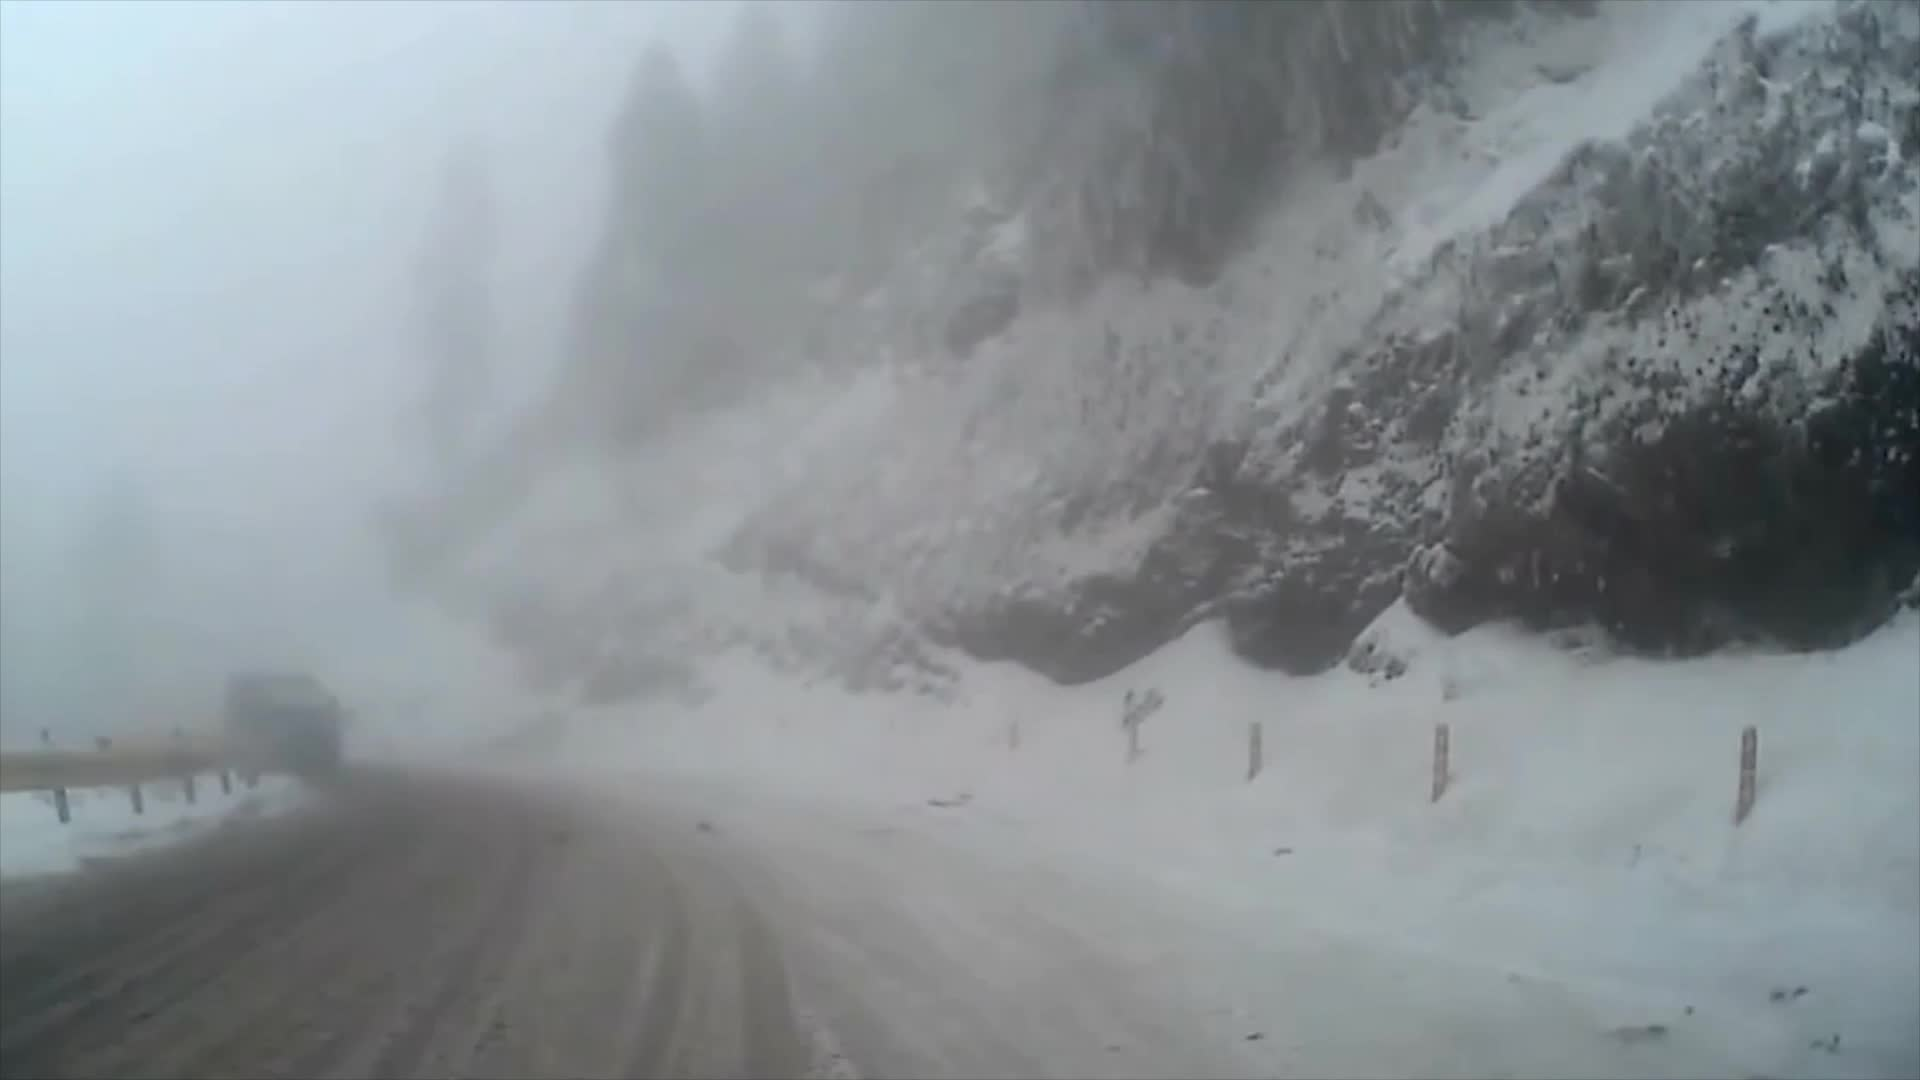vehicle: (225, 669, 344, 773)
